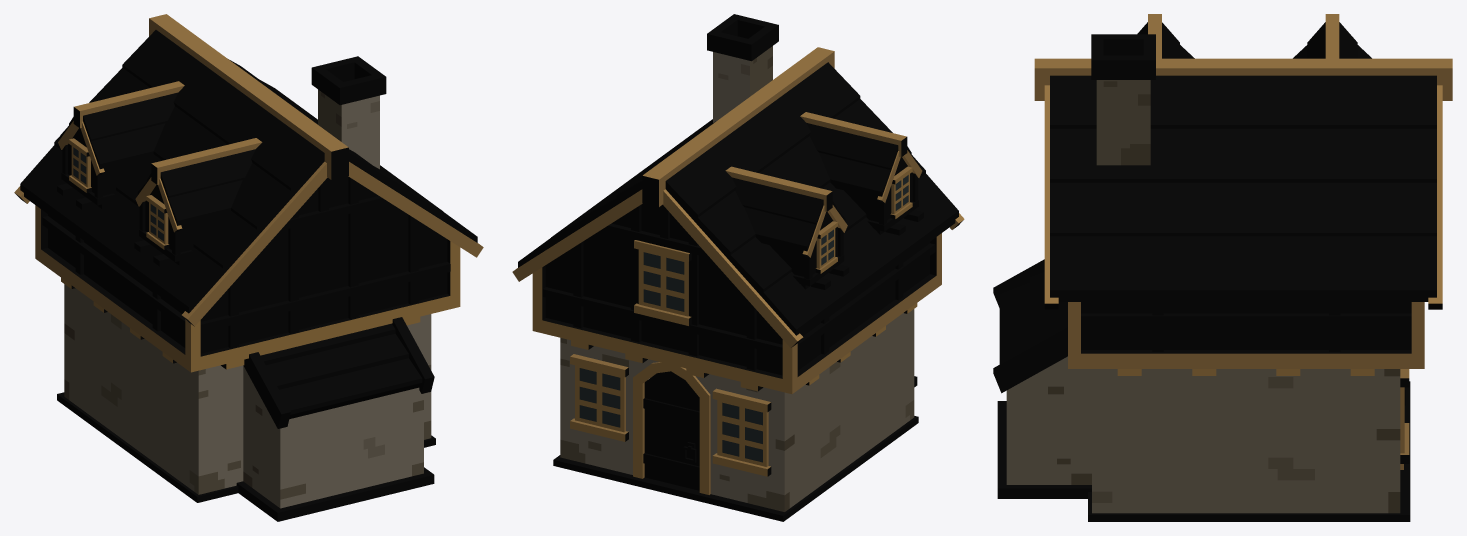
The model's file is SF_Bld_House_Blue_03.gltf.
3 renders of one model, left to right at view 1: azimuth 30°, elevation 25°; view 2: azimuth 150°, elevation 25°; view 3: azimuth 270°, elevation 25°, orthographic. The views are drawn at different scales.
Visible parts, largest first — view 1: SF_Bld_House_Blue_03; view 2: SF_Bld_House_Blue_03; view 3: SF_Bld_House_Blue_03.
Boxes of the visible parts, x1,y1,x2,y2 form: SF_Bld_House_Blue_03: (14, 14, 483, 521); SF_Bld_House_Blue_03: (512, 14, 964, 521); SF_Bld_House_Blue_03: (993, 14, 1452, 521).
Size of the model in its own units: 0.0995 by 0.1217 by 0.1166.
1 material, 1 textured.
